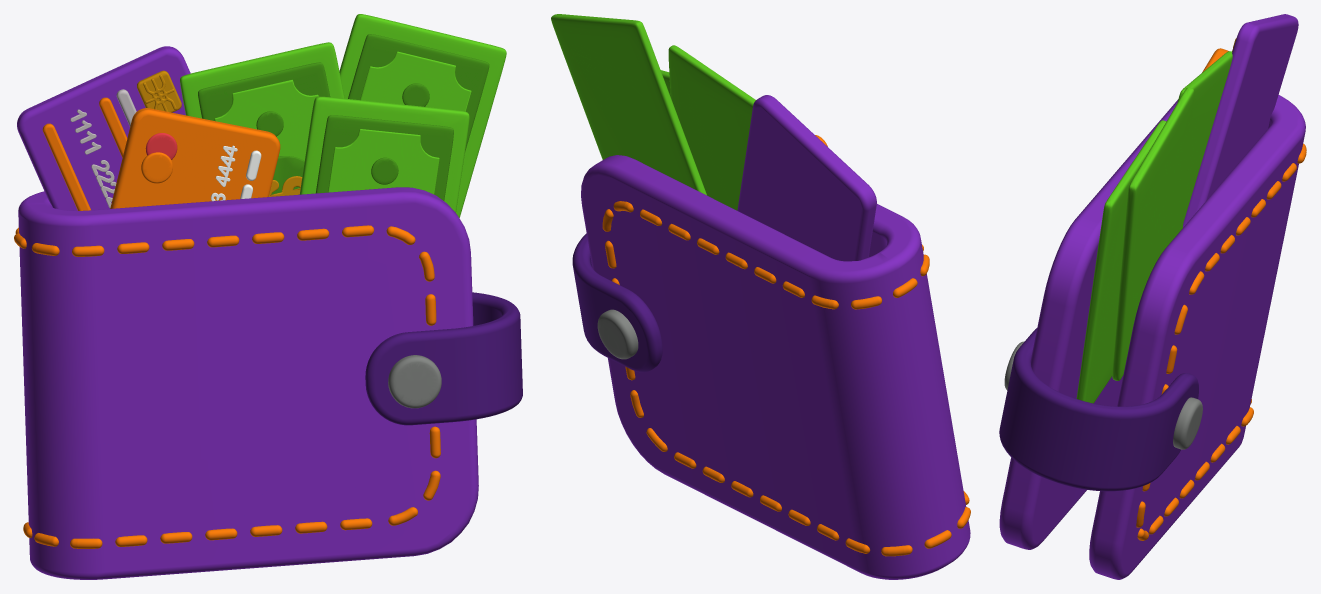
The model's file is balance.glb.
3 views of the same model, side by side, from view 1: azimuth 30°, elevation 25°; view 2: azimuth 150°, elevation 25°; view 3: azimuth 270°, elevation 25° (orthographic). The views are drawn at different scales.
Parts seen in each view (by area): view 1: Cube.205, Cube.219; view 2: Cube.205; view 3: Cube.205.
Boxes of the visible parts, x1=… form: Cube.205: x1=14, y1=14, x2=522, y2=579; Cube.219: x1=211, y1=145, x2=261, y2=201; Cube.205: x1=551, y1=14, x2=970, y2=579; Cube.205: x1=999, y1=14, x2=1306, y2=579.
Size of the model in its own units: 5.35 by 5.59 by 3.21.
2 materials, 2 textured.
